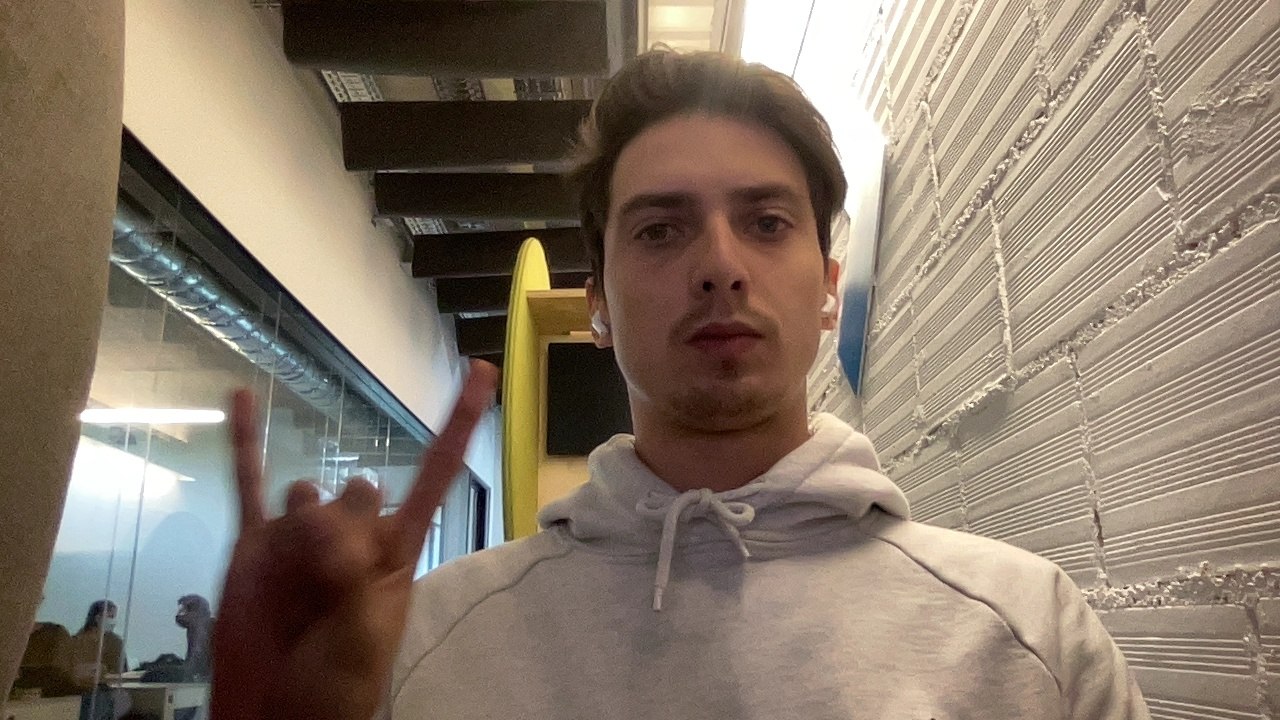iloveyou: (179, 332, 539, 699)
